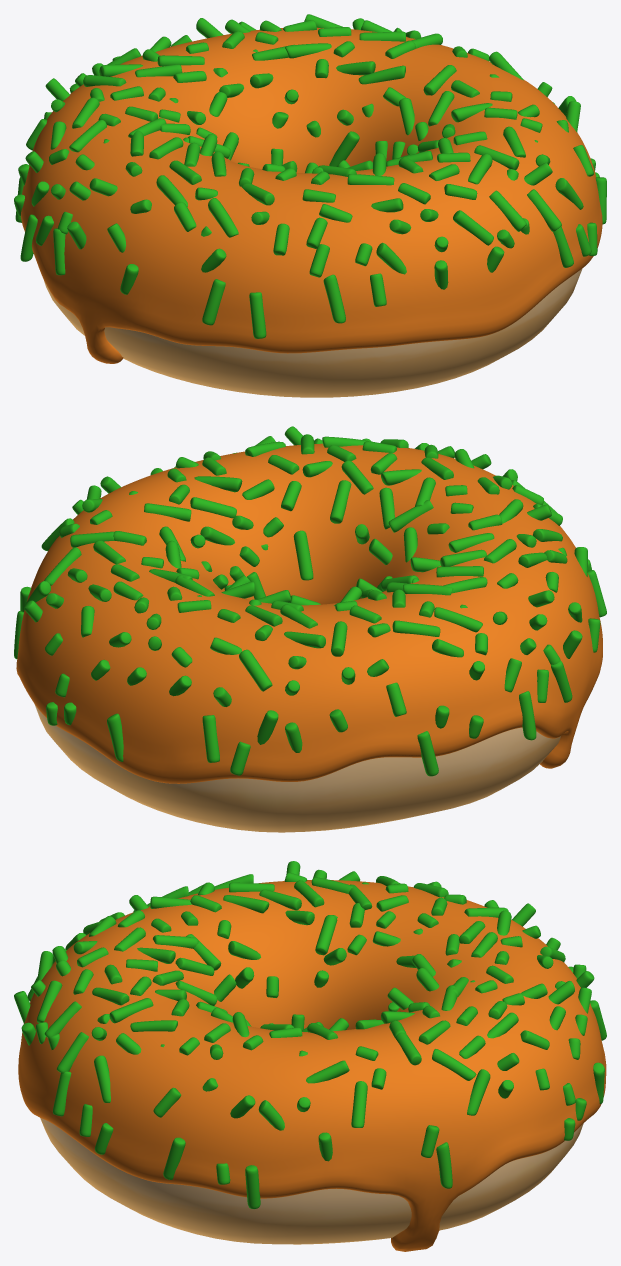
Rendered from Donut.fbx.
The picture shows the model from 3 angles, top to bottom: view 1: azimuth 30°, elevation 25°; view 2: azimuth 150°, elevation 25°; view 3: azimuth 270°, elevation 25°; orthographic projection. The views are drawn at different scales.
Visible parts, largest first — view 1: Icing.001, DonutBase.001; view 2: Icing.001, DonutBase.001; view 3: Icing.001, DonutBase.001.
Boxes of the visible parts, box(x1,y1,x2,y2) form: Icing.001: box(14, 14, 606, 363); DonutBase.001: box(44, 268, 582, 397); Icing.001: box(14, 426, 606, 783); DonutBase.001: box(34, 704, 560, 832); Icing.001: box(14, 861, 606, 1251); DonutBase.001: box(40, 1117, 583, 1244).
Size of the model in its own units: 13.25 by 5.48 by 13.58.
